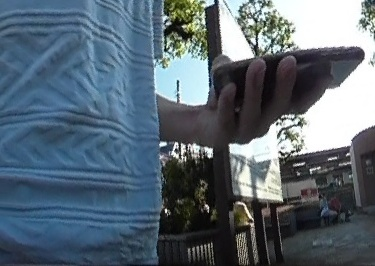person: (329, 192, 351, 218)
